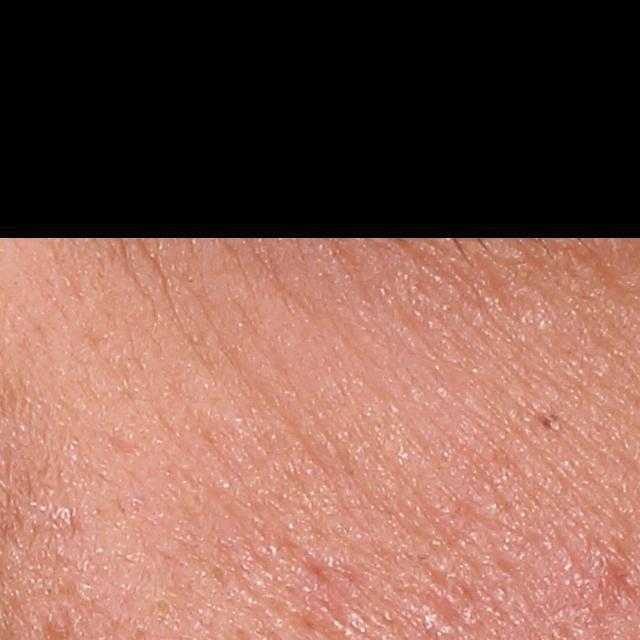nevus: (540, 407, 561, 435)
